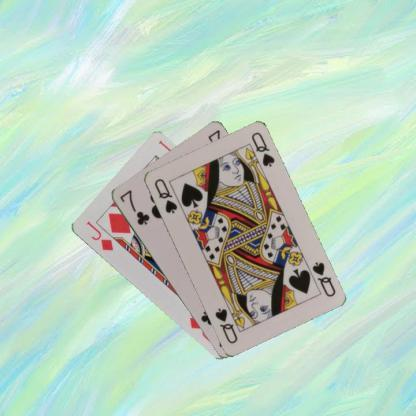7c: (116, 187, 151, 227)
Jd: (83, 218, 114, 252)
Qs: (309, 260, 337, 298), (152, 176, 178, 215)
